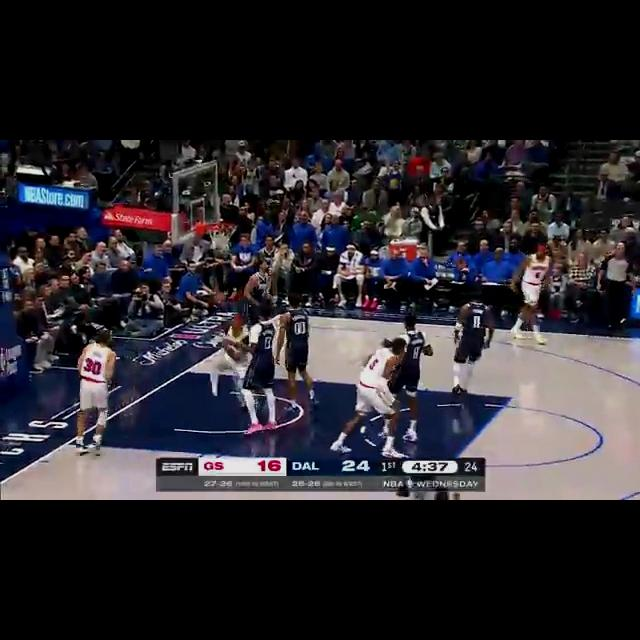Ball: (210, 288, 230, 306)
Team-1-Player: (238, 296, 284, 446), (272, 292, 322, 413), (448, 285, 496, 409), (383, 310, 433, 398)
Team-2-Player: (327, 338, 419, 464), (58, 322, 128, 462), (500, 244, 566, 346), (202, 310, 262, 410)
